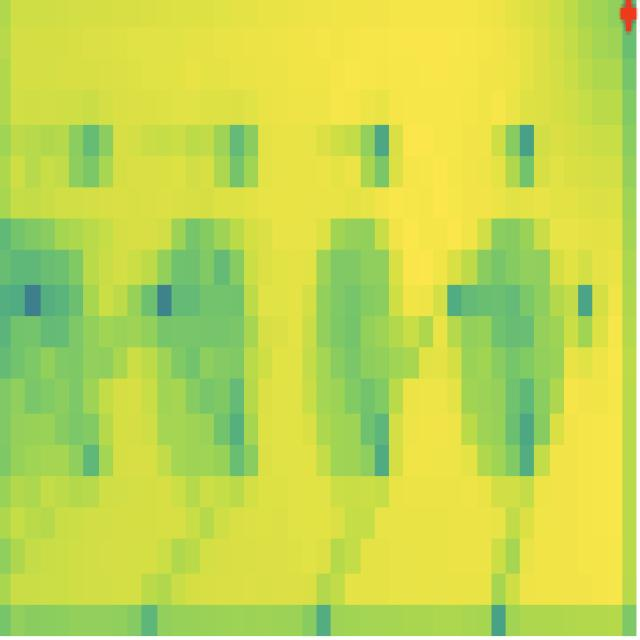Concrete: (8, 216, 115, 449)
Glass: (460, 220, 560, 476)
Metal: (157, 221, 260, 474)
Wood: (319, 220, 402, 480)
